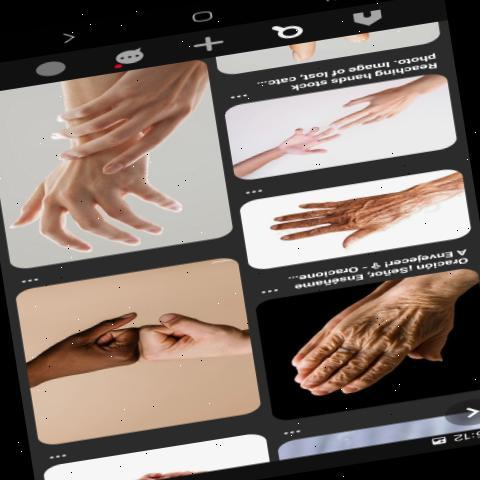Hands: (271, 279, 474, 396), (28, 68, 221, 181), (247, 170, 464, 256), (2, 155, 188, 251), (324, 78, 450, 145), (223, 119, 345, 172)
